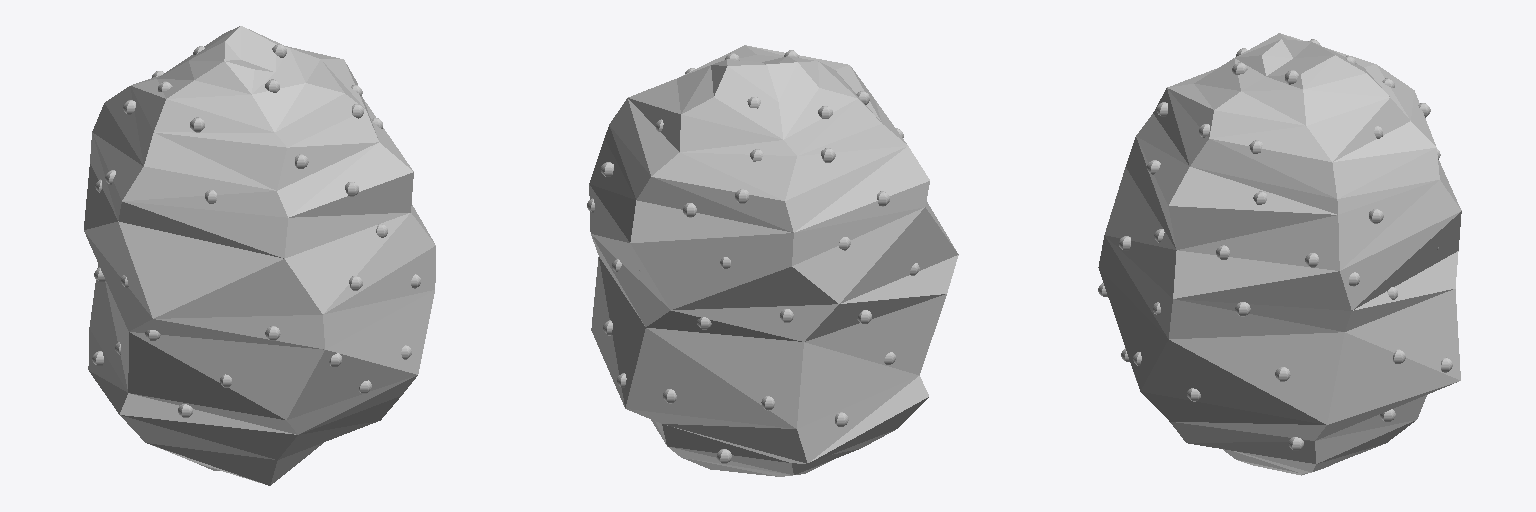
The model's file is simplebush.obj.
3 renders of one model, left to right at view 1: azimuth 30°, elevation 25°; view 2: azimuth 150°, elevation 25°; view 3: azimuth 270°, elevation 25°, orthographic.
Parts seen in each view (by area): view 1: Sphere.109; view 2: Sphere.109; view 3: Sphere.109.
Boxes of the visible parts, x1,y1,x2,y2 form: Sphere.109: [84, 26, 435, 485]; Sphere.109: [589, 45, 958, 476]; Sphere.109: [1098, 33, 1461, 475].
Bounding box in the file's own units: 0.5874 × 0.7585 × 0.6034.